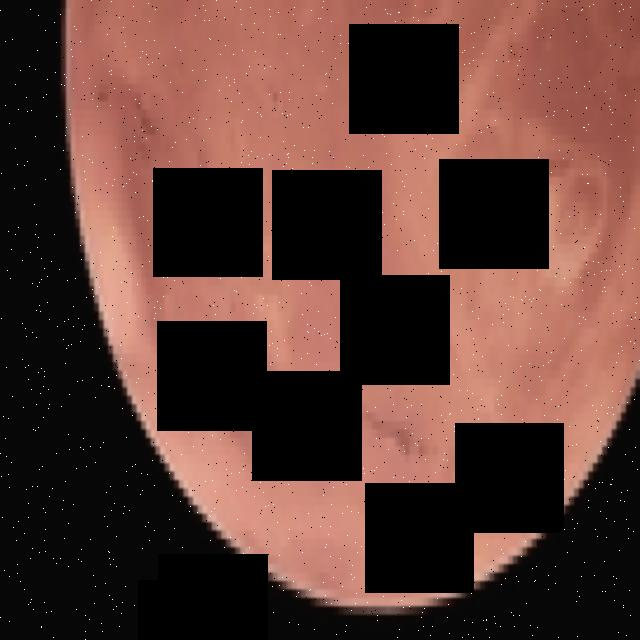Mars: (61, 0, 640, 623)
